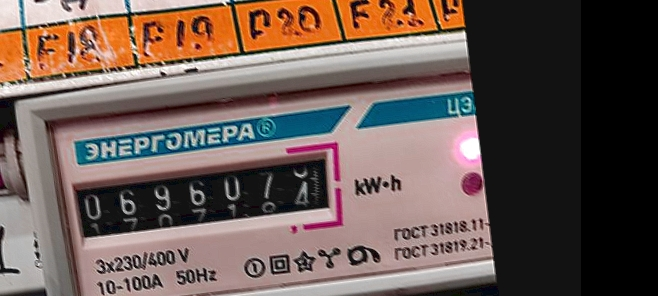0: (78, 188, 103, 221), (219, 170, 241, 201)
4: (287, 177, 310, 208)
6: (183, 175, 207, 208), (114, 184, 136, 215)
7: (254, 165, 275, 198)
9: (149, 180, 172, 211)
screen: (57, 133, 349, 259)
